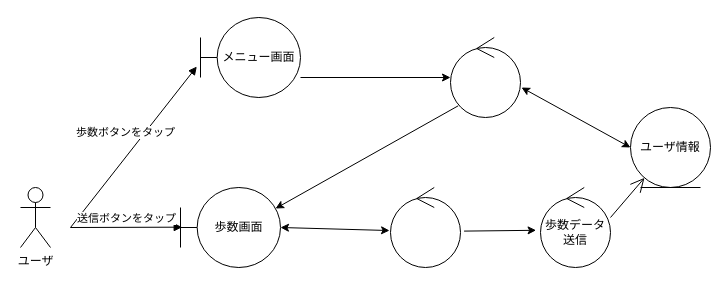
Some shapes in this 728 by 286 pixel diagram are drawn without their labels. The shapes that lost their labels are listed below. From the top down, each one's box as (x1, y1, x2, y2) in pixels, then its label:
(450, 36, 520, 118): 歩数ウインドウ表示
(390, 186, 460, 268): カウンタリセット
